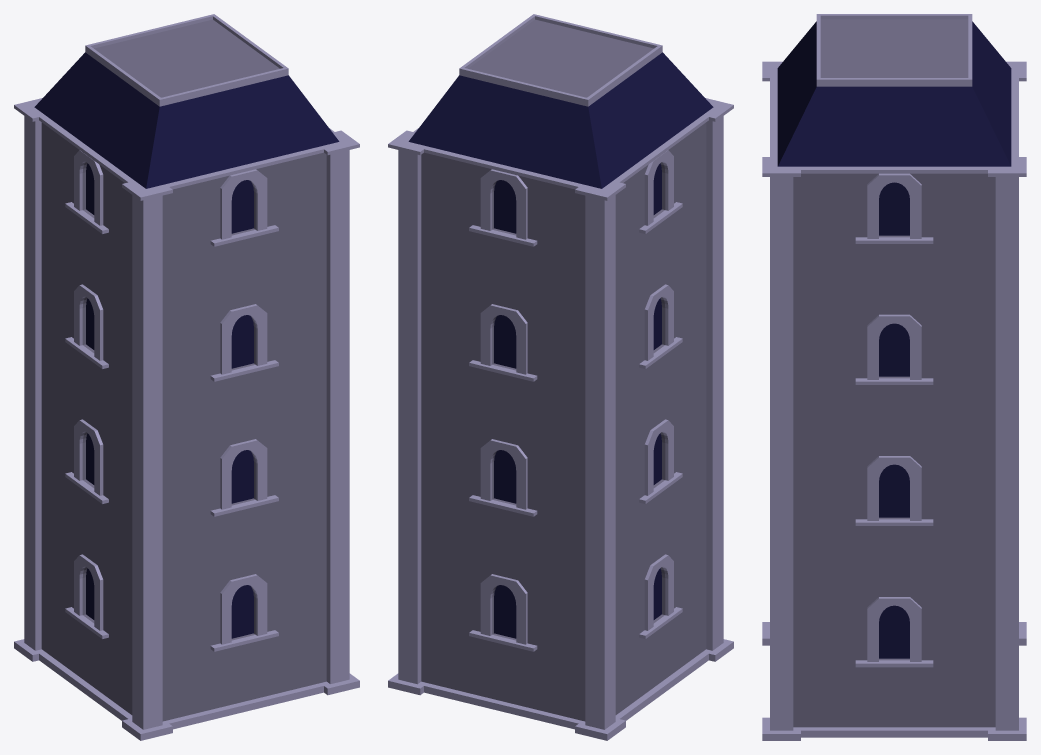
File: house v6.004.fbx
The picture shows the model from 3 angles, left to right: view 1: azimuth 30°, elevation 25°; view 2: azimuth 150°, elevation 25°; view 3: azimuth 270°, elevation 25°; orthographic projection. The views are drawn at different scales.
Visible parts, largest first — view 1: Building; view 2: Building; view 3: Building.
Part boxes in pixels (x1,y1,x2,y2): Building: (14,14,359,740); Building: (388,14,733,740); Building: (762,14,1026,740).
Bounding box in the file's own units: 340 × 340 × 905.
